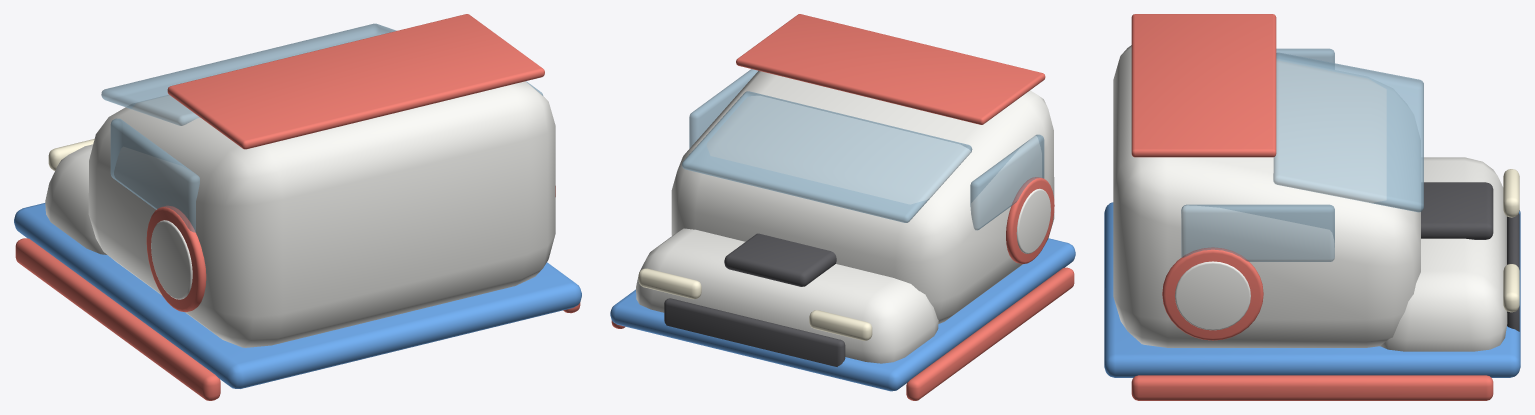
The model's file is Kabina_Dostawcza_Sportowa.fbx.
3 renders of one model, left to right at view 1: azimuth 30°, elevation 25°; view 2: azimuth 150°, elevation 25°; view 3: azimuth 270°, elevation 25°, orthographic. The views are drawn at different scales.
Visible parts, largest first — view 1: Kabina_Dostawcza_Sportowa; view 2: Kabina_Dostawcza_Sportowa; view 3: Kabina_Dostawcza_Sportowa.
Part boxes in pixels (<box>): Kabina_Dostawcza_Sportowa: <box>14,14,581,400</box>; Kabina_Dostawcza_Sportowa: <box>610,14,1075,400</box>; Kabina_Dostawcza_Sportowa: <box>1104,14,1520,400</box>.
Bounding box in the file's own units: 2.24 × 1.44 × 2.3.
